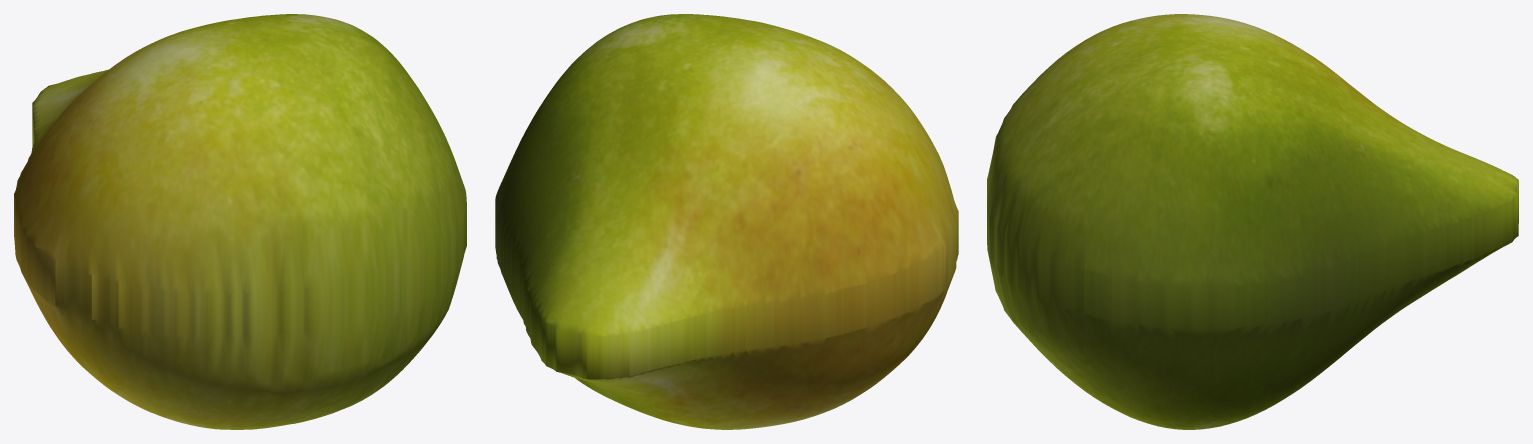
File: green pear_8_1.obj
3 renders of one model, left to right at view 1: azimuth 30°, elevation 25°; view 2: azimuth 150°, elevation 25°; view 3: azimuth 270°, elevation 25°, orthographic. The views are drawn at different scales.
Visible parts, largest first — view 1: Grid; view 2: Grid; view 3: Grid.
Part boxes in pixels (x1,y1,x2,y2): Grid: (14,14,466,429); Grid: (495,14,958,429); Grid: (987,14,1518,429).
Bounding box in the file's own units: 1.37 × 1.2 × 1.62.
Materials: 1 (1 with a texture image).
